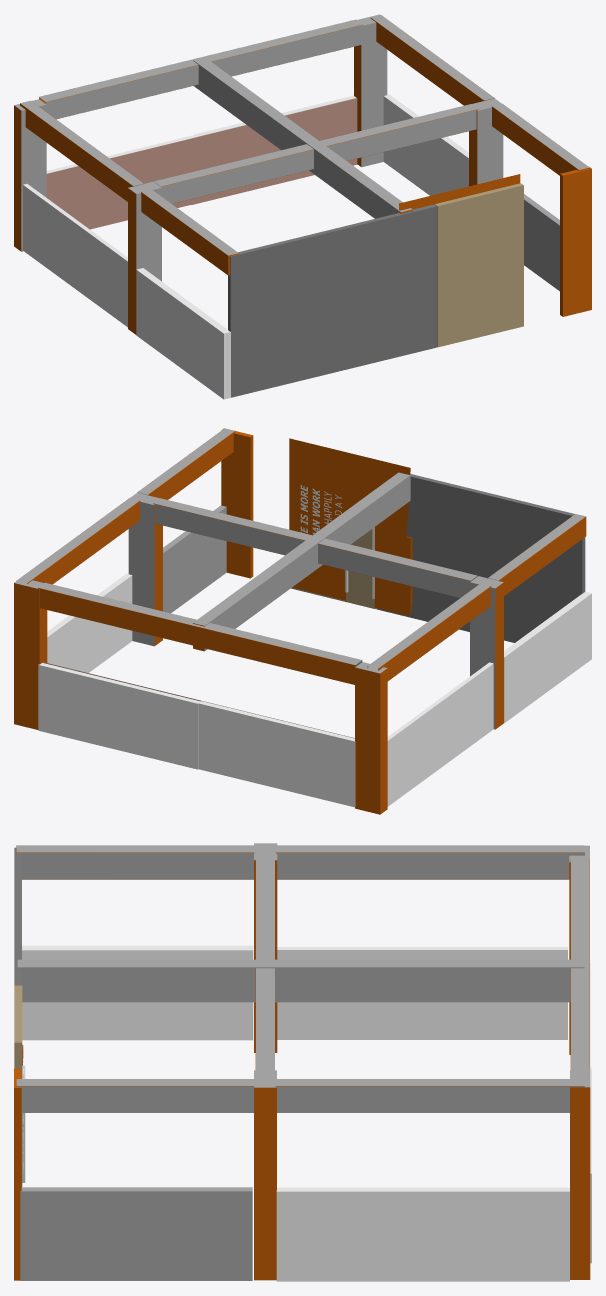
File: Walls.fbx
The picture shows the model from 3 angles, top to bottom: view 1: azimuth 30°, elevation 25°; view 2: azimuth 150°, elevation 25°; view 3: azimuth 270°, elevation 25°; orthographic projection. The views are drawn at different scales.
Visible parts, largest first — view 1: wall_text_01, Box010; view 2: wall_text_01, Box010; view 3: wall_text_01, Box010.
Boxes of the visible parts, x1,y1,x2,y2 form: wall_text_01: (14,14,591,399); Box010: (434,183,523,347); wall_text_01: (14,428,591,814); Box010: (291,529,376,608); wall_text_01: (14,843,591,1281); Box010: (14,985,22,1186).
Bounding box in the file's own units: 8214 × 3222 × 8157.
